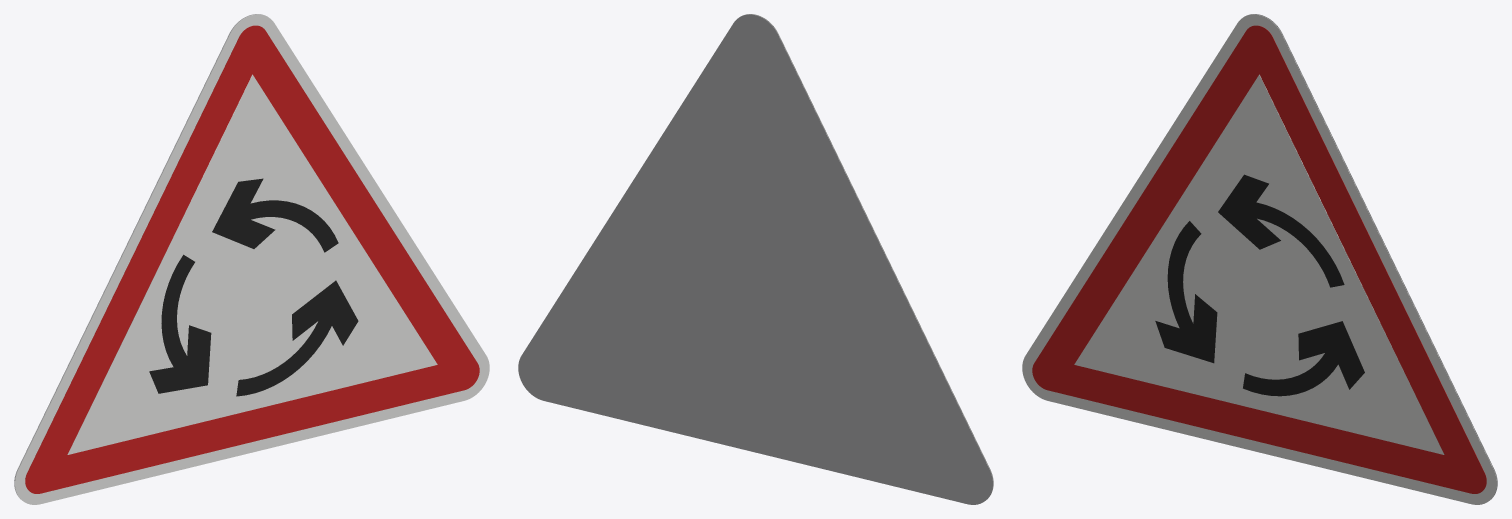
3 views of the same model, side by side, from view 1: azimuth 30°, elevation 25°; view 2: azimuth 150°, elevation 25°; view 3: azimuth 330°, elevation 25° (orthographic).
Parts seen in each view (by area): view 1: AB25_p02, AB25_p01, AB25_p00, AB25_p04, AB25_p03, AB25_p05, AB25_dos; view 2: AB25_dos, AB25_p00; view 3: AB25_p02, AB25_p01, AB25_p00, AB25_p04, AB25_p03, AB25_p05, AB25_dos.
Boxes of the visible parts, <box> form: AB25_p02: <box>67,74,437,454</box>; AB25_p01: <box>25,25,479,493</box>; AB25_p00: <box>15,14,489,504</box>; AB25_p04: <box>149,254,211,393</box>; AB25_p03: <box>236,280,358,396</box>; AB25_p05: <box>212,178,338,252</box>; AB25_dos: <box>14,14,267,499</box>; AB25_dos: <box>518,14,992,504</box>; AB25_p00: <box>740,14,993,499</box>; AB25_p02: <box>1074,74,1444,454</box>; AB25_p01: <box>1032,25,1486,493</box>; AB25_p00: <box>1022,14,1496,504</box>; AB25_p04: <box>1155,221,1217,363</box>; AB25_p03: <box>1243,321,1364,396</box>; AB25_p05: <box>1218,174,1344,287</box>; AB25_dos: <box>1244,14,1497,499</box>.
Size of the model in its own units: 0.7 by 0.6162 by 0.0039.
